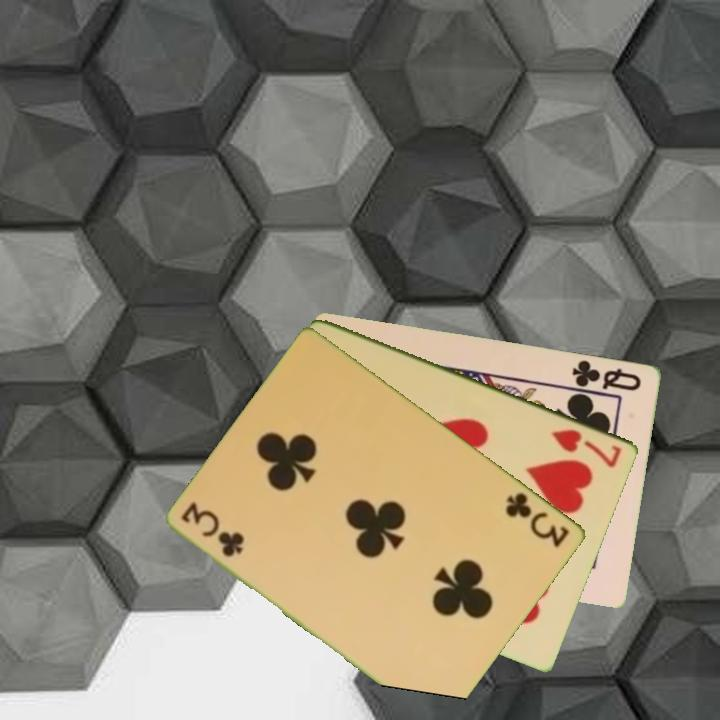3c: (502, 488, 573, 551), (177, 499, 248, 561)
7h: (548, 425, 625, 471)
Qc: (569, 356, 645, 394)
